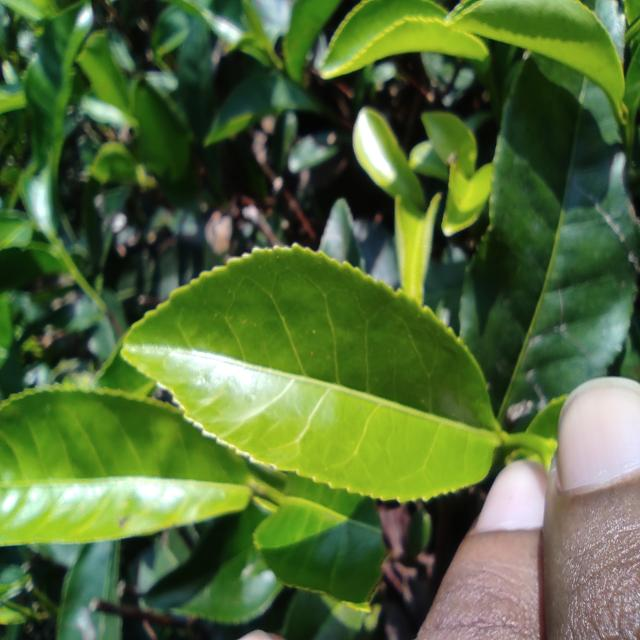Category C 4-7 days: (100, 221, 528, 505)
